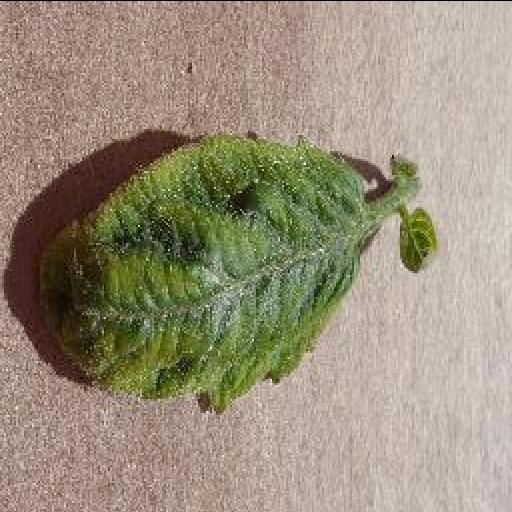disease_tomato: (46, 131, 362, 413)
